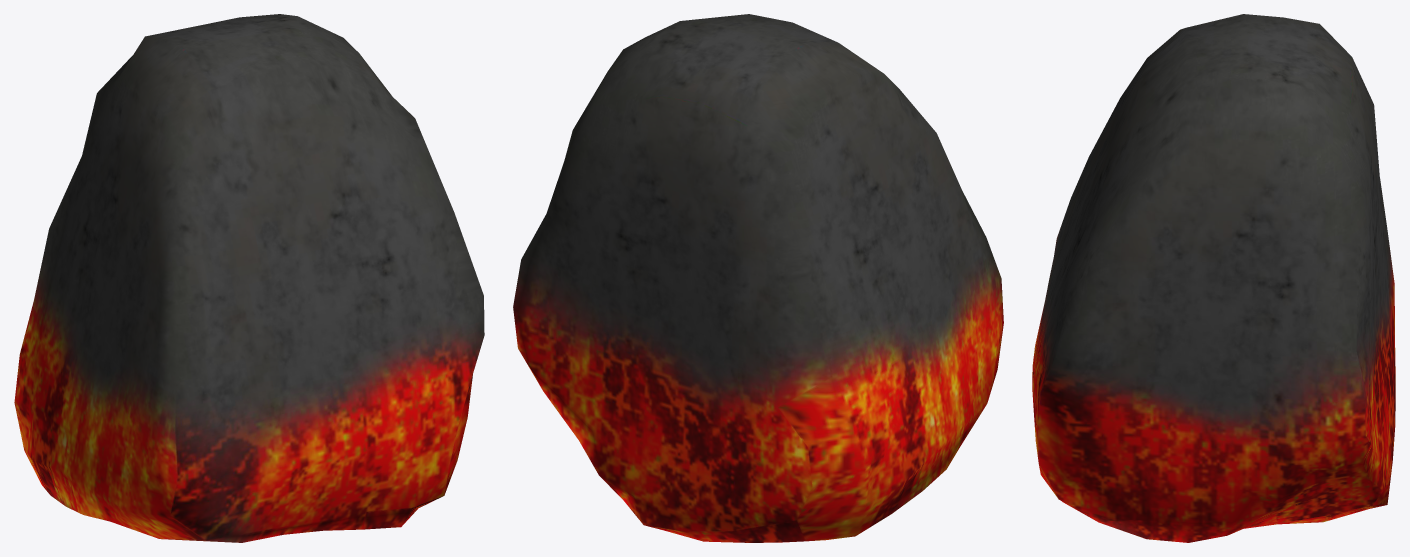
The model's file is Rock_2.fbx.
The picture shows the model from 3 angles, left to right: view 1: azimuth 30°, elevation 25°; view 2: azimuth 150°, elevation 25°; view 3: azimuth 270°, elevation 25°; orthographic projection.
Parts seen in each view (by area): view 1: Rock_3:Group63707; view 2: Rock_3:Group63707; view 3: Rock_3:Group63707.
Boxes of the visible parts, left/top/right/bottom form: Rock_3:Group63707: left=14, top=14, right=484, bottom=542; Rock_3:Group63707: left=513, top=14, right=1003, bottom=542; Rock_3:Group63707: left=1032, top=14, right=1395, bottom=542.
Size of the model in its own units: 2.19 by 2.75 by 1.91.
1 material, 1 textured.
